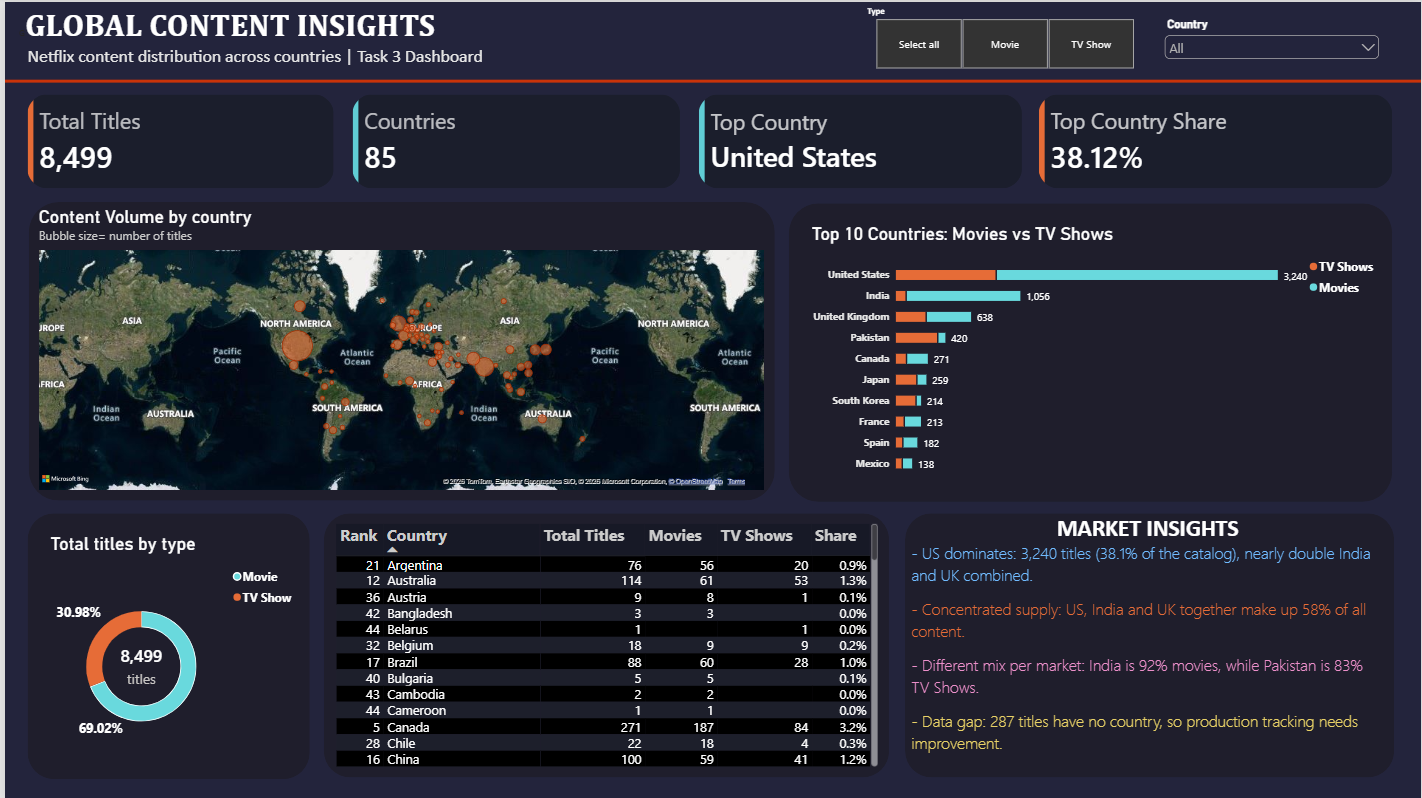

This screenshot's page, from the dashboard's own definition file:
{"tool":"powerbi","page":{"name":"Task 3 - Global Content","canvas":[1920,1080],"ordinal":0},"visuals":[{"type":"shape","box":[31.7,271.7,1011.7,405],"z":0},{"type":"shape","box":[1063.3,273.3,818.3,405],"z":1000},{"type":"shape","box":[31.3,693.9,382.8,360.7],"z":2000},{"type":"shape","box":[431.7,693.3,766.7,358.3],"z":3000},{"type":"shape","box":[1220.3,693.9,663.3,358.3],"z":4000},{"type":"shape","box":[0,90.6,1920.4,35],"z":5000},{"type":"cardVisual","fields":{"Data":["Netflix_Main.Total Titles"]},"box":[30.9,125.6,415.8,127.6],"z":6000},{"type":"cardVisual","fields":{"Data":["Count(Netflix_Main.country)"]},"box":[471.4,125.6,444.6,127.6],"z":7000},{"type":"cardVisual","fields":{"Data":["Min(Netflix_Main.country)"]},"box":[940.7,125.6,438.4,127.6],"z":8000},{"type":"cardVisual","fields":{"Data":["Netflix_Main.Top Country Share %"]},"box":[1401.7,125.6,479.6,127.6],"z":9000},{"type":"map","title":"Content Volume by country","fields":{"Category":["Netflix_Main.country"],"Size":["Netflix_Main.Total Titles"]},"box":[46,274.2,982.8,386.5],"z":10000},{"type":"barChart","title":"Top 10 Countries: Movies vs TV Shows","fields":{"Category":["Netflix_Main.country"],"Y":["Netflix_Main.TV Shows","Netflix_Main.Movies"]},"box":[1078.5,287.1,802.5,373.6],"z":11000},{"type":"donutChart","title":"Total titles by type","fields":{"Category":["Netflix_Main.type"],"Y":["Netflix_Main.Total Titles"]},"box":[46,706.8,368.1,346],"z":12000},{"type":"tableEx","fields":{"Values":["Netflix_Main.Country Rank","Netflix_Main.country","Netflix_Main.Total Titles","Netflix_Main.Movies","Netflix_Main.TV Shows","Netflix_Main.Content Share %"]},"box":[432.5,693.9,767.5,358.9],"z":13000},{"type":"slicer","fields":{"Values":["Netflix_Main.type"]},"box":[1161.4,5.5,388.3,86.5],"z":14000},{"type":"slicer","title":"Country","fields":{"Values":["Netflix_Main.country"]},"box":[1568.1,20.2,300,71.8],"z":15000},{"type":"textbox","box":[1228.8,693.2,640.7,357.6],"z":16000},{"type":"textbox","box":[18.4,5.5,636.8,75.5],"z":17000},{"type":"textbox","box":[31.3,57.1,300,47.9],"z":18000},{"type":"textbox","box":[31.3,57.1,662.6,47.9],"z":19000}]}

Visuals, with their boxes in screenshot pixels (x1, y1, x2, y2), scaled from the page's 1920x1080 canvas onto the 1422x798 screenshot:
shape: (x1=23, y1=201, x2=773, y2=500)
shape: (x1=788, y1=202, x2=1394, y2=501)
shape: (x1=23, y1=513, x2=307, y2=779)
shape: (x1=320, y1=512, x2=888, y2=777)
shape: (x1=904, y1=513, x2=1395, y2=777)
shape: (x1=0, y1=67, x2=1421, y2=93)
cardVisual - Netflix_Main.Total Titles: (x1=23, y1=93, x2=331, y2=187)
cardVisual - Count(Netflix_Main.country): (x1=349, y1=93, x2=678, y2=187)
cardVisual - Min(Netflix_Main.country): (x1=697, y1=93, x2=1021, y2=187)
cardVisual - Netflix_Main.Top Country Share %: (x1=1038, y1=93, x2=1393, y2=187)
"Content Volume by country" map: (x1=34, y1=203, x2=762, y2=488)
"Top 10 Countries: Movies vs TV Shows" barChart: (x1=799, y1=212, x2=1393, y2=488)
"Total titles by type" donutChart: (x1=34, y1=522, x2=307, y2=778)
tableEx - Netflix_Main.Country Rank x Netflix_Main.country: (x1=320, y1=513, x2=889, y2=778)
slicer - Netflix_Main.type: (x1=860, y1=4, x2=1148, y2=68)
"Country" slicer: (x1=1161, y1=15, x2=1384, y2=68)
textbox: (x1=910, y1=512, x2=1385, y2=776)
textbox: (x1=14, y1=4, x2=485, y2=60)
textbox: (x1=23, y1=42, x2=245, y2=78)
textbox: (x1=23, y1=42, x2=514, y2=78)
